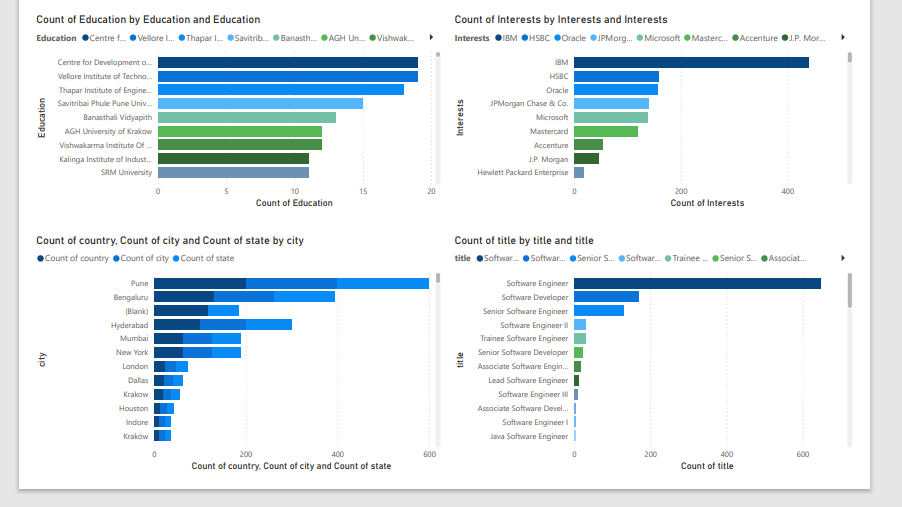

This screenshot's page, from the dashboard's own definition file:
{"tool":"powerbi","page":{"name":"Page 2","canvas":[1280,720],"ordinal":0},"visuals":[{"type":"barChart","fields":{"Category":["Sheet1.city","Sheet1.country","Sheet1.state"],"Y":["CountNonNull(Sheet1.country)","CountNonNull(Sheet1.city)","CountNonNull(Sheet1.state)"]},"box":[0,344.2,639.4,375.8],"z":0},{"type":"barChart","fields":{"Category":["Sheet1.title"],"Y":["CountNonNull(Sheet1.title)"],"Series":["Sheet1.title"]},"box":[650.9,344.2,629.3,375.8],"z":1000},{"type":"barChart","fields":{"Category":["Sheet1.Education"],"Y":["CountNonNull(Sheet1.Education)"],"Series":["Sheet1.Education"]},"box":[0,0,639.4,309.6],"z":2000},{"type":"barChart","fields":{"Category":["Sheet1.Interests"],"Y":["CountNonNull(Sheet1.Interests)"],"Series":["Sheet1.Interests"]},"box":[650.9,0,629.3,309.6],"z":3000}]}

Visuals, with their boxes in screenshot pixels (x1, y1, x2, y2), scaled from the page's 1280x720 canvas onto the 902x507 screenshot:
barChart - Sheet1.city x Sheet1.country: 0,242,451,506
barChart - Sheet1.title x CountNonNull(Sheet1.title): 459,242,901,506
barChart - Sheet1.Education x CountNonNull(Sheet1.Education): 0,0,451,218
barChart - Sheet1.Interests x CountNonNull(Sheet1.Interests): 459,0,901,218
